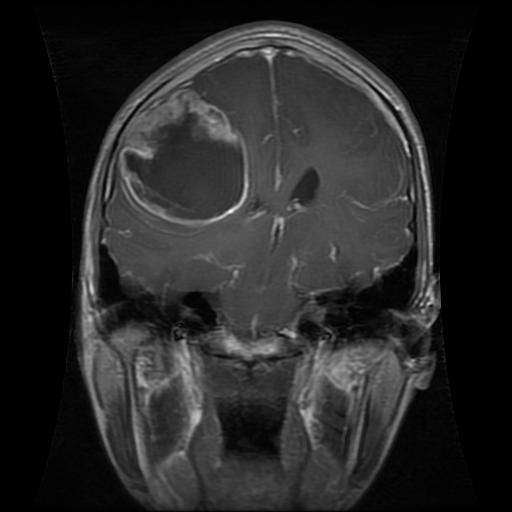Gliomia_tumour: (119, 84, 251, 226)
